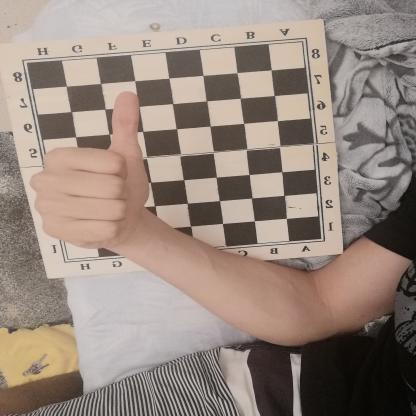ALIF: (23, 80, 166, 261)
